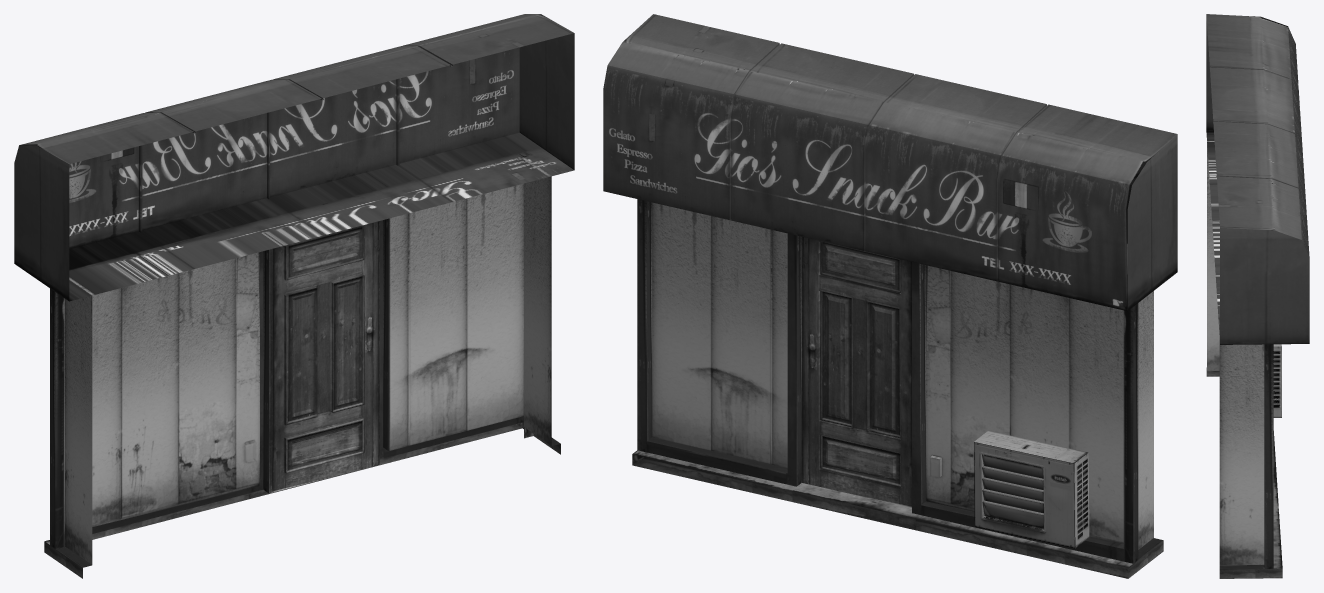
File: snack_bar.fbx
3 views of the same model, side by side, from view 1: azimuth 30°, elevation 25°; view 2: azimuth 150°, elevation 25°; view 3: azimuth 270°, elevation 25° (orthographic). The views are drawn at different scales.
Parts seen in each view (by area): view 1: snack_bar; view 2: snack_bar; view 3: snack_bar.
Boxes of the visible parts, bbox=[...] form: snack_bar: bbox=[14, 14, 574, 578]; snack_bar: bbox=[603, 14, 1177, 578]; snack_bar: bbox=[1206, 14, 1309, 578].
Size of the model in its own units: 530 by 411 by 108.
